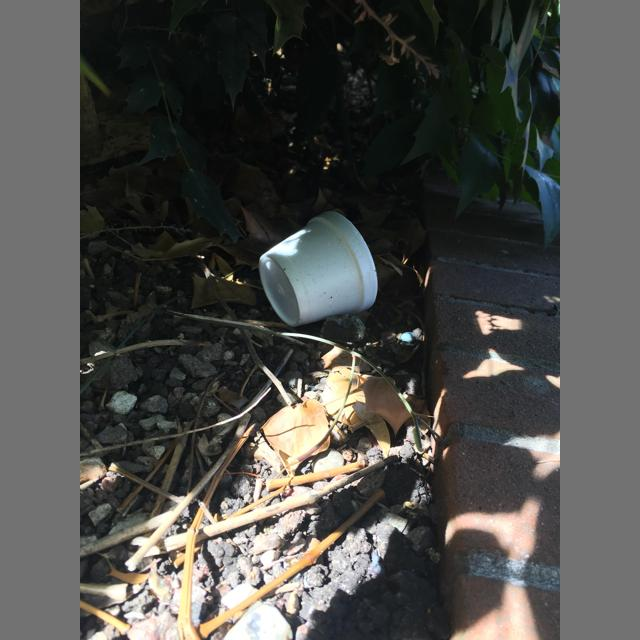litter: (259, 211, 378, 327)
